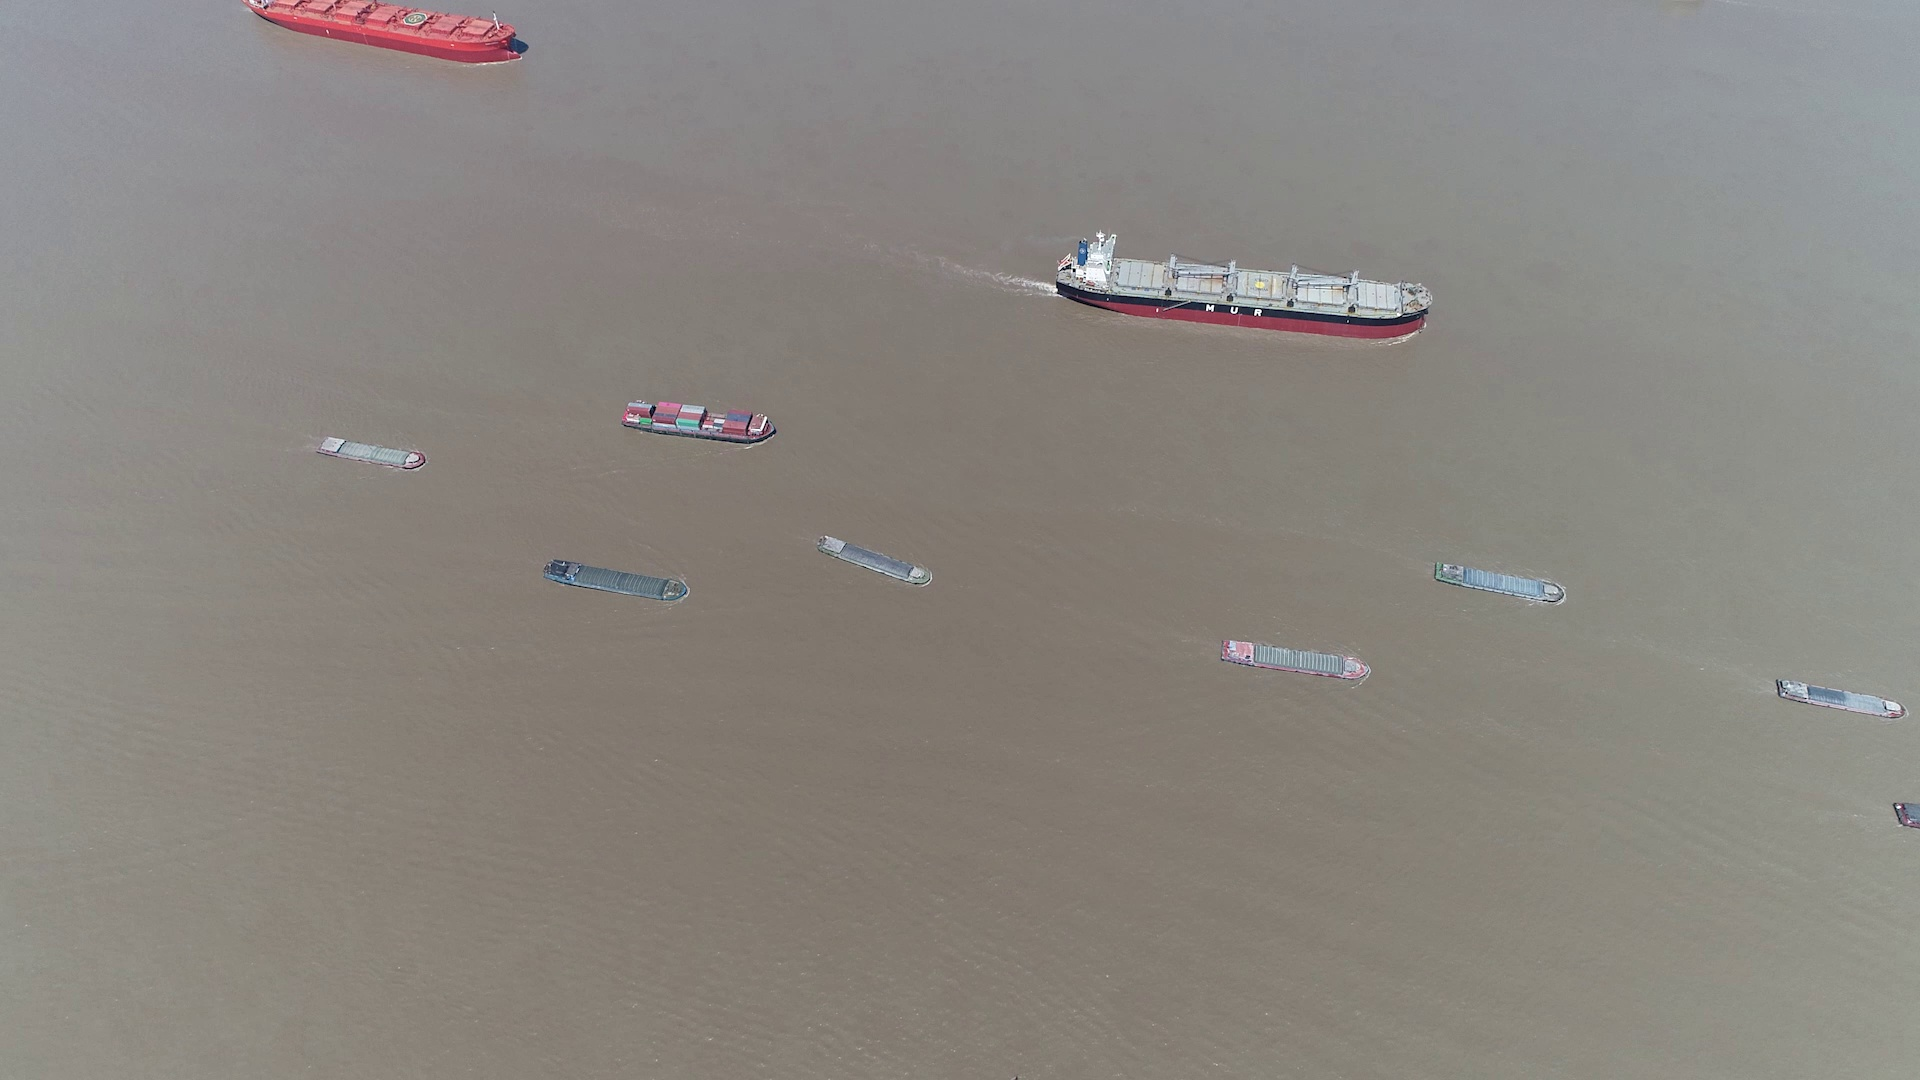ship: (1060, 235, 1435, 338), (247, 0, 526, 65), (622, 400, 777, 443), (819, 535, 938, 589), (543, 560, 688, 603), (1431, 563, 1568, 607), (1221, 640, 1370, 679), (1774, 676, 1905, 720), (316, 435, 427, 469), (1894, 802, 1919, 832)
